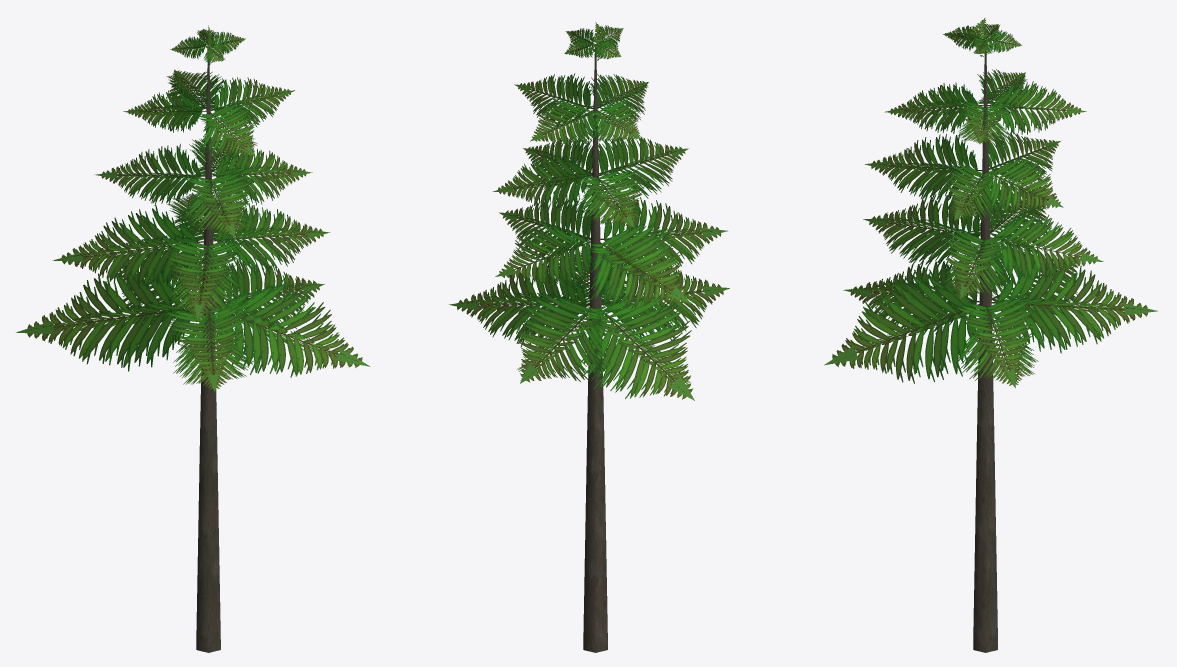
Rendered from pine_lod1.glb.
3 views of the same model, side by side, from view 1: azimuth 30°, elevation 25°; view 2: azimuth 150°, elevation 25°; view 3: azimuth 270°, elevation 25° (orthographic).
Parts seen in each view (by area): view 1: pine; view 2: pine; view 3: pine.
Part boxes in pixels (bbox=[...]): pine: bbox=[16, 25, 370, 652]; pine: bbox=[449, 22, 729, 652]; pine: bbox=[824, 17, 1157, 652].
Size of the model in its own units: 12.68 by 24.14 by 12.97.
Materials: 2 (2 with a texture image).
